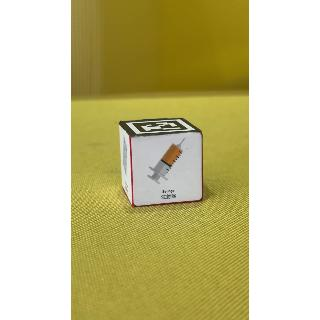Syringe: (130, 136, 207, 205)
